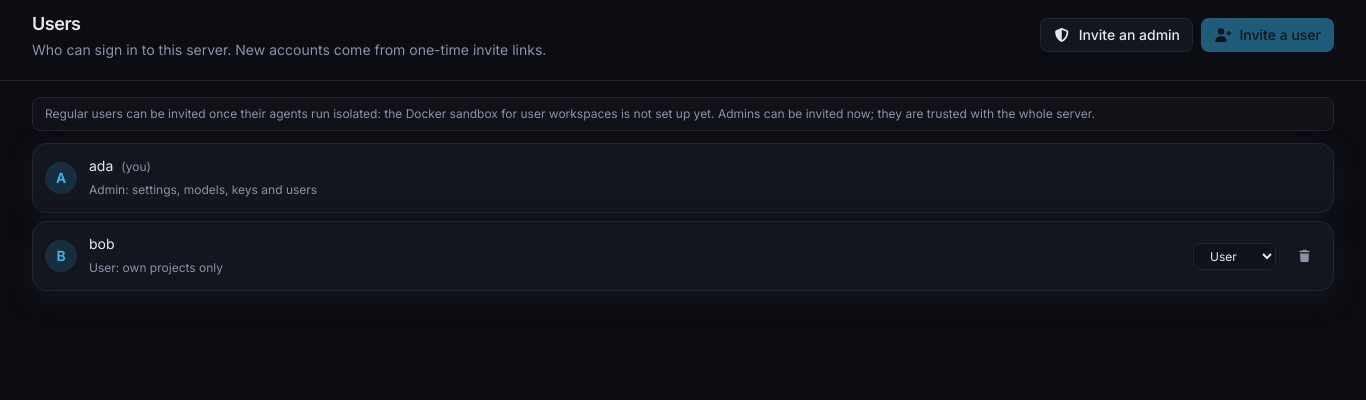
Test: UsersPage › lists accounts, invites an admin, and holds user invites until the sandbox is ready
Expected: the number of list items with test id "user-row" is 2, [32,143,1334,213]; [32,221,1334,291]
Expected: the button "Invite a user" is disabled, [1201,18,1334,52]
What coordinates should you click on to do the following:
click the button "Invite an admin"
I would click on:
 (1117, 35)
Its box is [1040,18,1193,52].
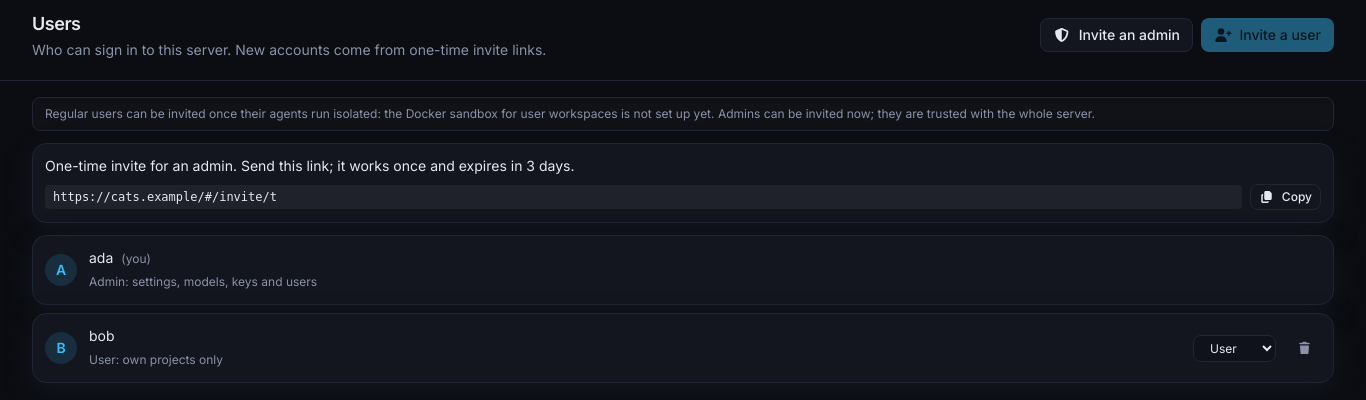
Expected: the text "https://cats.example/#/invite/t" is shown, [45,185,1242,209]
